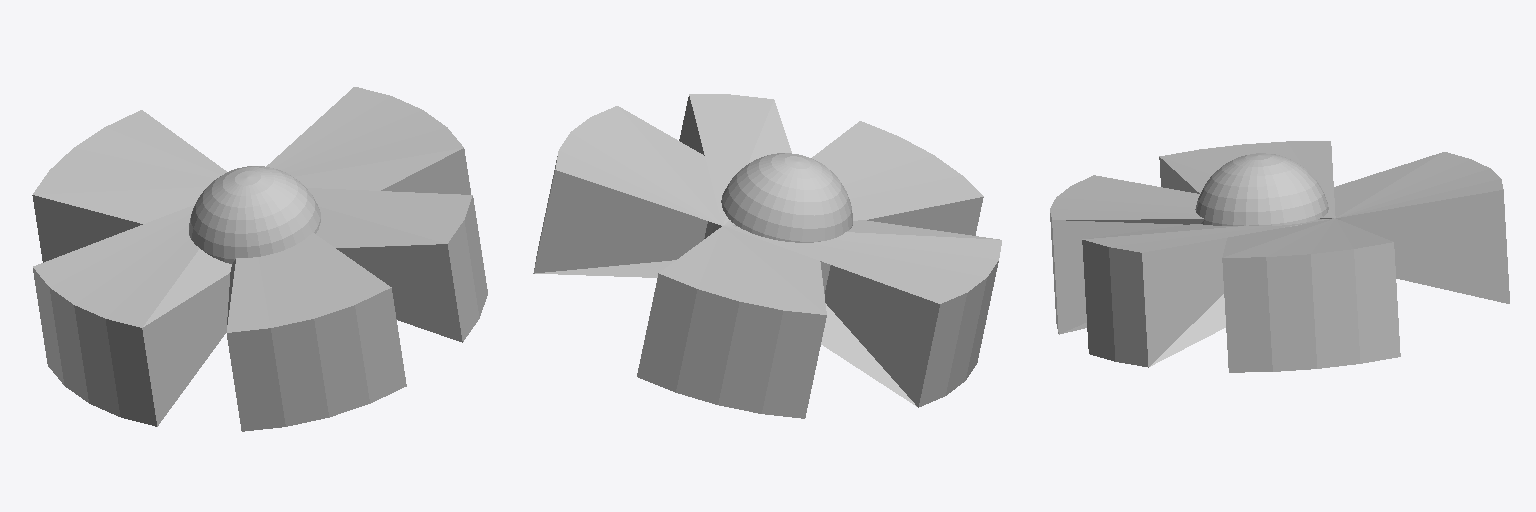
Rendered from flower.obj.
The picture shows the model from 3 angles: view 1: azimuth 30°, elevation 25°; view 2: azimuth 150°, elevation 25°; view 3: azimuth 270°, elevation 25°; orthographic projection.
Parts seen in each view (by area): view 1: Icosphere.001; view 2: Icosphere.001; view 3: Icosphere.001.
Part boxes in pixels (x1,y1,x2,y2): Icosphere.001: (32, 87, 487, 431); Icosphere.001: (533, 94, 1001, 418); Icosphere.001: (1050, 141, 1509, 372).
Size of the model in its own units: 0.62 by 0.2696 by 0.6091.